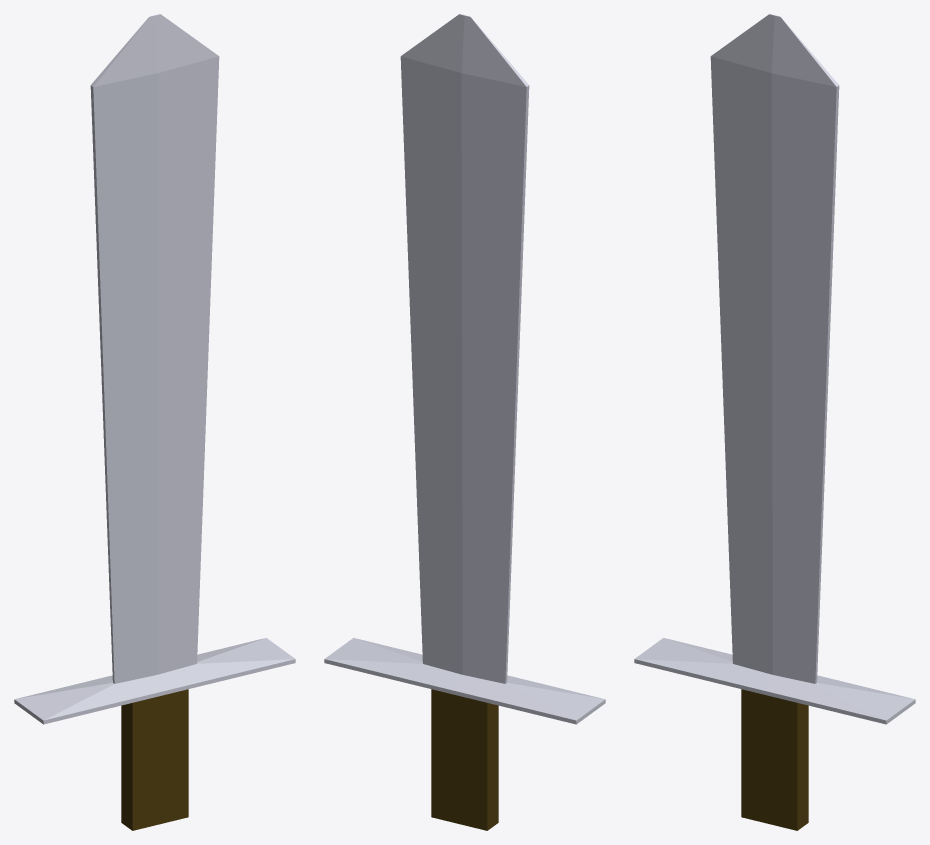
The model's file is jian.fbx.
3 views of the same model, side by side, from view 1: azimuth 30°, elevation 25°; view 2: azimuth 150°, elevation 25°; view 3: azimuth 330°, elevation 25° (orthographic).
Parts seen in each view (by area): view 1: jian; view 2: jian; view 3: jian.
Boxes of the visible parts, left/top/right/bottom form: jian: left=14, top=14, right=295, bottom=830; jian: left=324, top=14, right=605, bottom=830; jian: left=634, top=14, right=915, bottom=830.
Bounding box in the file's own units: 20 × 61 × 4.
